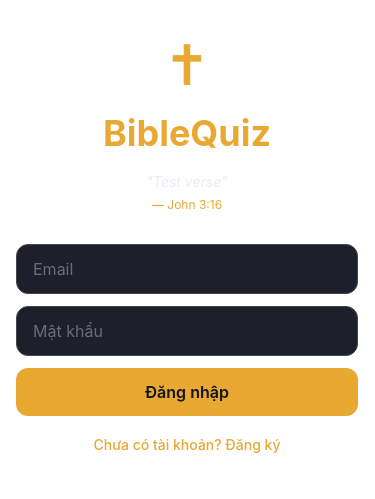
LoginScreen › shows error when email is empty
The width and height of the screenshot is (375, 499).
Click the text "Đăng nhập" at (187, 392), box [145,382,229,402]
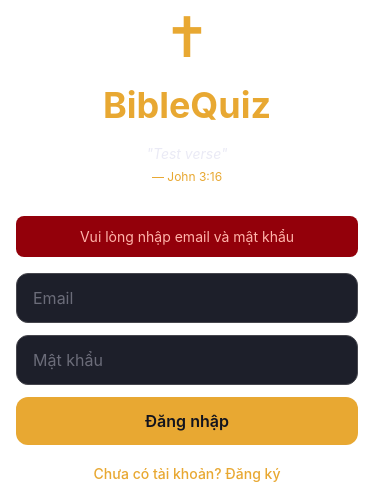
expect the text "Vui lòng nhập email và mật khẩu" is shown: met, box [80,228,294,244]
